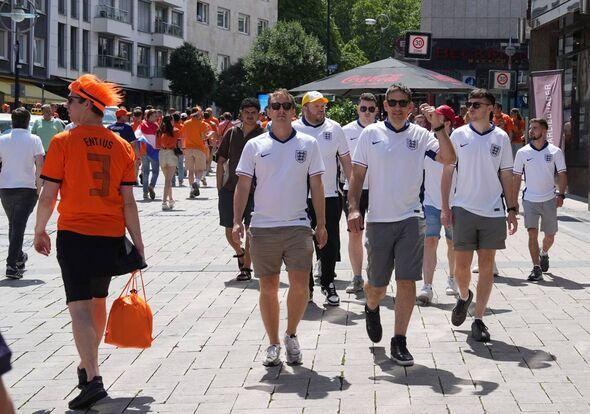Shorts: (54, 230, 120, 306), (362, 215, 424, 283), (244, 225, 316, 275), (449, 204, 507, 252), (218, 184, 261, 228), (419, 203, 462, 243), (520, 199, 559, 236), (183, 147, 208, 174), (159, 148, 180, 170)
short sleeve shirt: (40, 123, 143, 239), (351, 120, 442, 224), (235, 127, 325, 231), (447, 124, 513, 213), (283, 113, 351, 197), (340, 118, 387, 197), (513, 142, 565, 204), (217, 126, 269, 186), (423, 129, 458, 215), (1, 129, 45, 191), (32, 116, 64, 155), (104, 123, 138, 152), (180, 119, 212, 149), (157, 127, 181, 152)
trousers: (301, 196, 343, 287), (0, 186, 40, 265), (137, 153, 159, 193)
